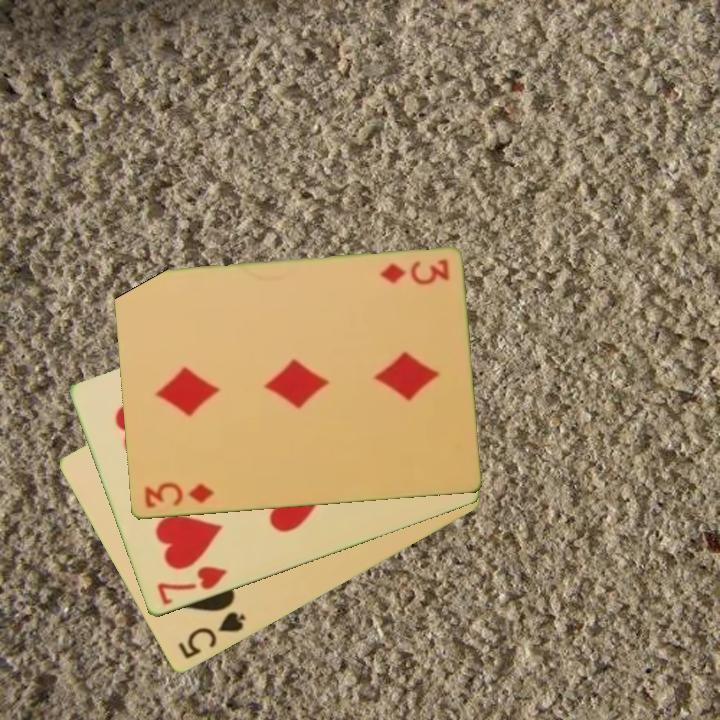3d: (140, 479, 216, 512), (376, 256, 452, 287)
5s: (174, 608, 249, 663)
7h: (153, 563, 230, 608)
